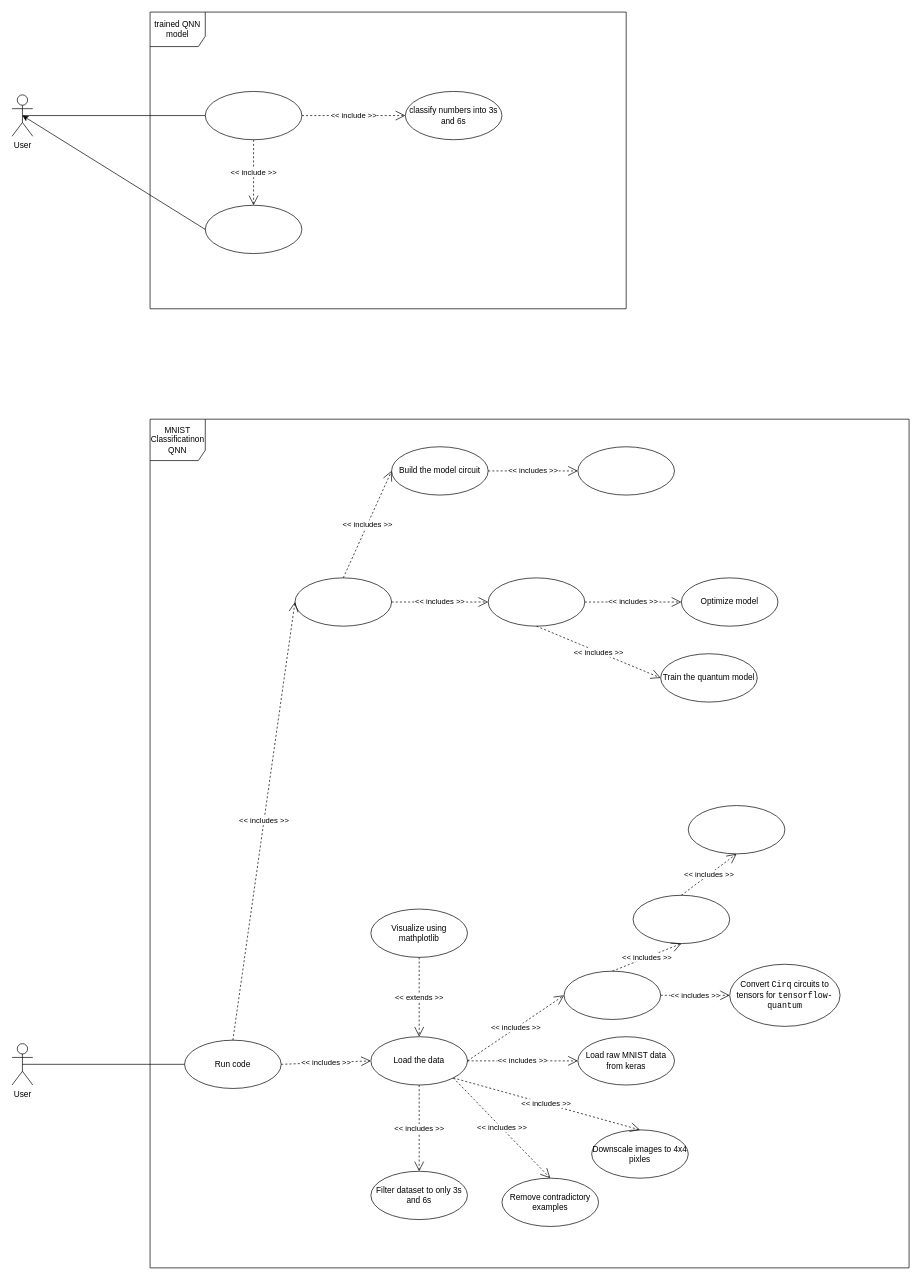
Some shapes in this 921 by 1280 pixel diagram are drawn without their labels. Each missing label, with the centre of its shape:
"Convert binary images to cirq circuits" goes at (681,919).
"Create a QNN model circuit" goes at (625,470).
"Create Quantum Neural Network" goes at (343,601).
"Encode classical truncated images into qubits" goes at (736,829).
"Encode the data as quantum circuits" goes at (612,994).
"Get dataset of numbers" goes at (253,115).
"return results" goes at (253,229).
"wrap the circuit in a tfq-keras model" goes at (536,601).
